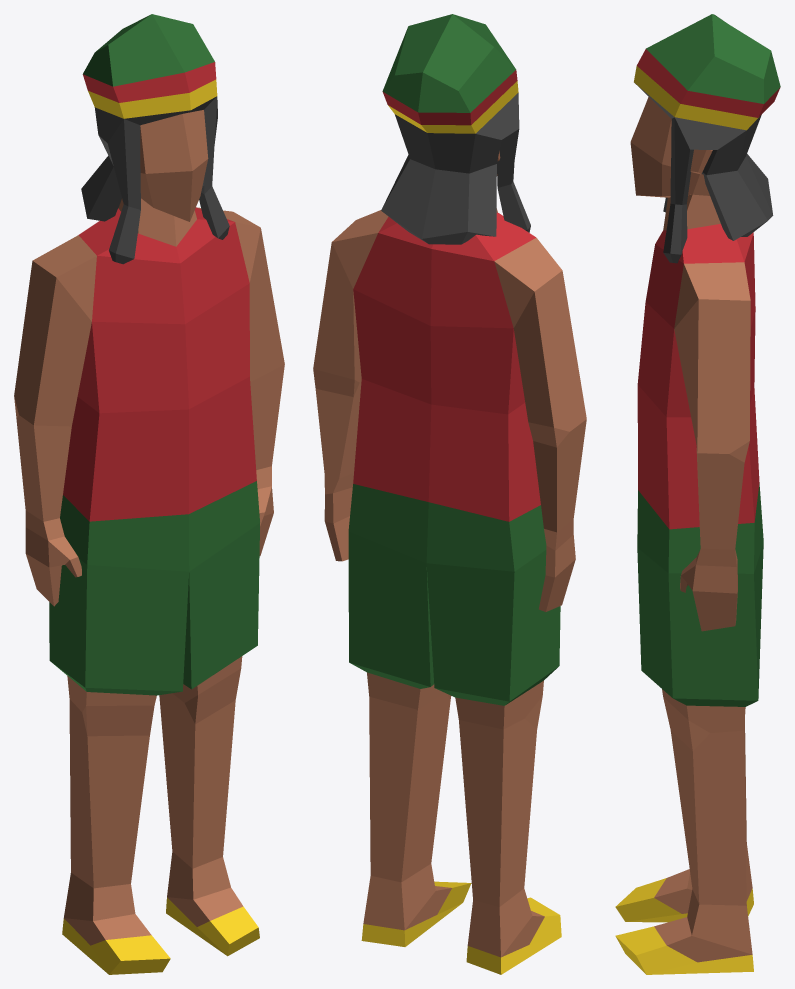
The model's file is man-jamaica.fbx.
3 renders of one model, left to right at view 1: azimuth 30°, elevation 25°; view 2: azimuth 150°, elevation 25°; view 3: azimuth 270°, elevation 25°, orthographic.
Parts seen in each view (by area): view 1: man-jamaica; view 2: man-jamaica; view 3: man-jamaica.
Boxes of the visible parts, box(x1,y1,x2,y2) form: man-jamaica: box(14, 14, 284, 974); man-jamaica: box(313, 14, 586, 974); man-jamaica: box(615, 14, 780, 974).
Size of the model in its own units: 0.5526 by 1.93 by 0.3136.
